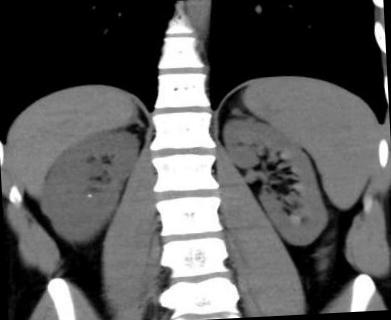Tas_Var: (85, 193, 93, 199)
